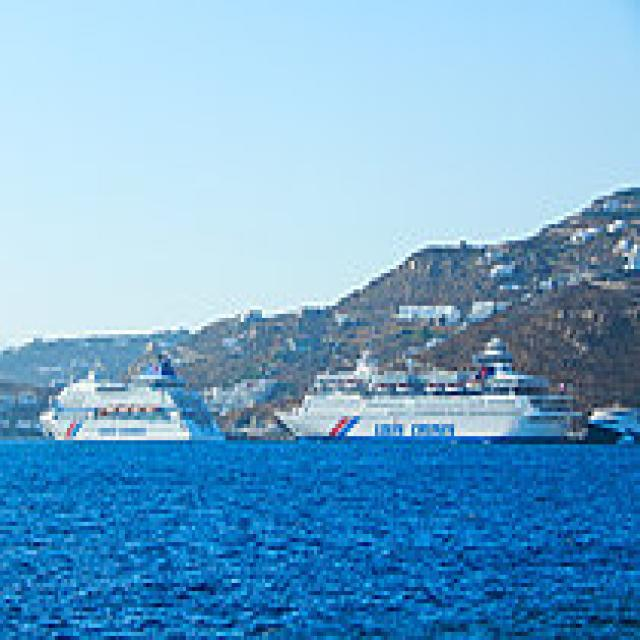Ship: (273, 348, 602, 462), (35, 344, 230, 454)
